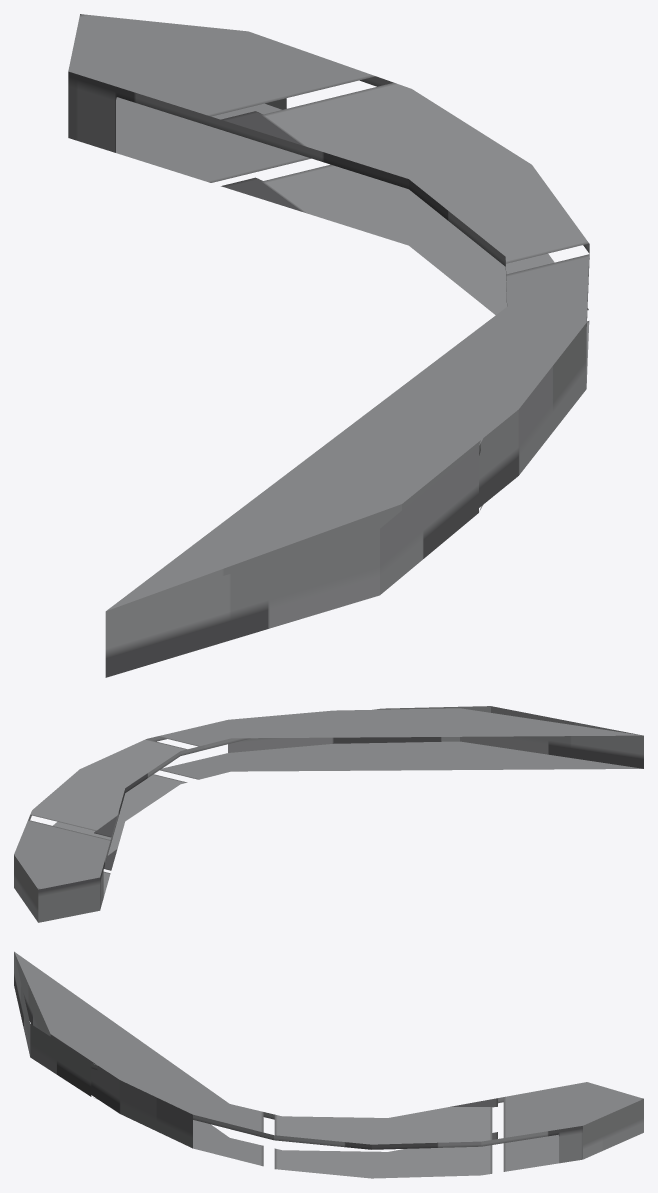
3 renders of one model, top to bottom at view 1: azimuth 30°, elevation 25°; view 2: azimuth 150°, elevation 25°; view 3: azimuth 270°, elevation 25°, orthographic. The views are drawn at different scales.
Bounding box in the file's own units: 1.12 × 0.092 × 1.55.
